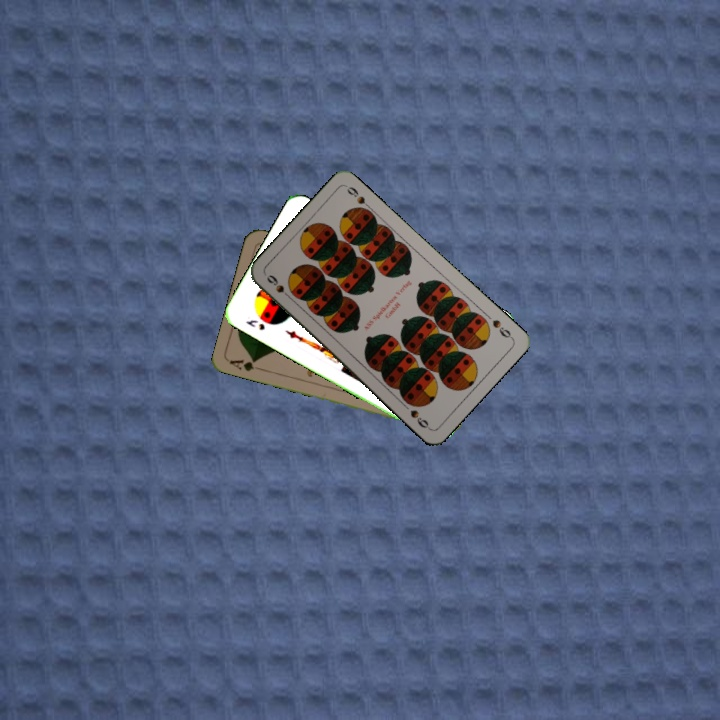GA: (226, 355, 266, 374)
S9: (263, 270, 295, 303), (488, 315, 515, 342)
SK: (242, 316, 268, 333)
